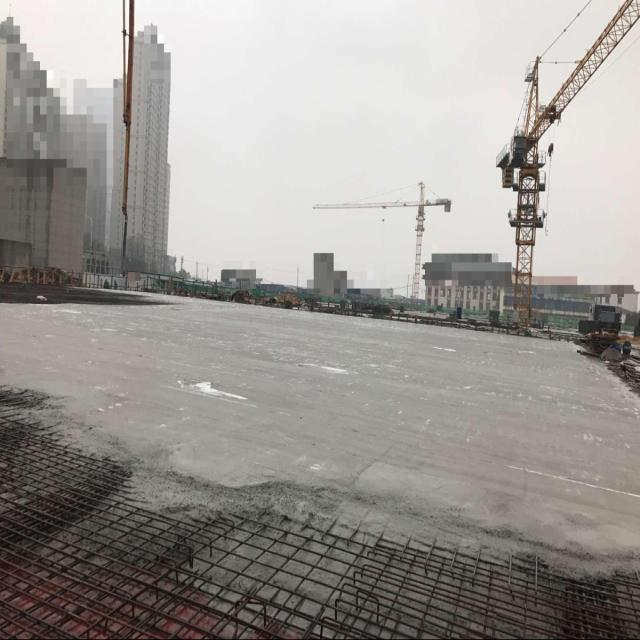crane: (494, 0, 639, 325), (312, 180, 451, 299)
truck: (122, 0, 135, 276)
